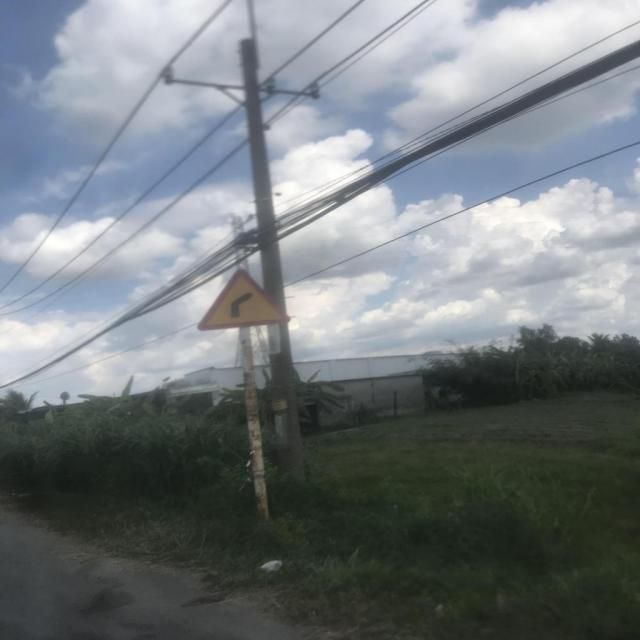cho_ngoat_nguy_hiem_ben_phai: (196, 268, 293, 331)
